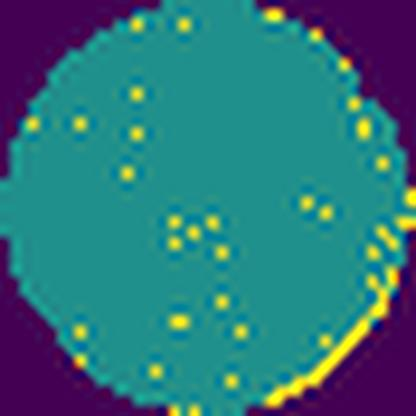Edge-Loc: (262, 265, 406, 404)
